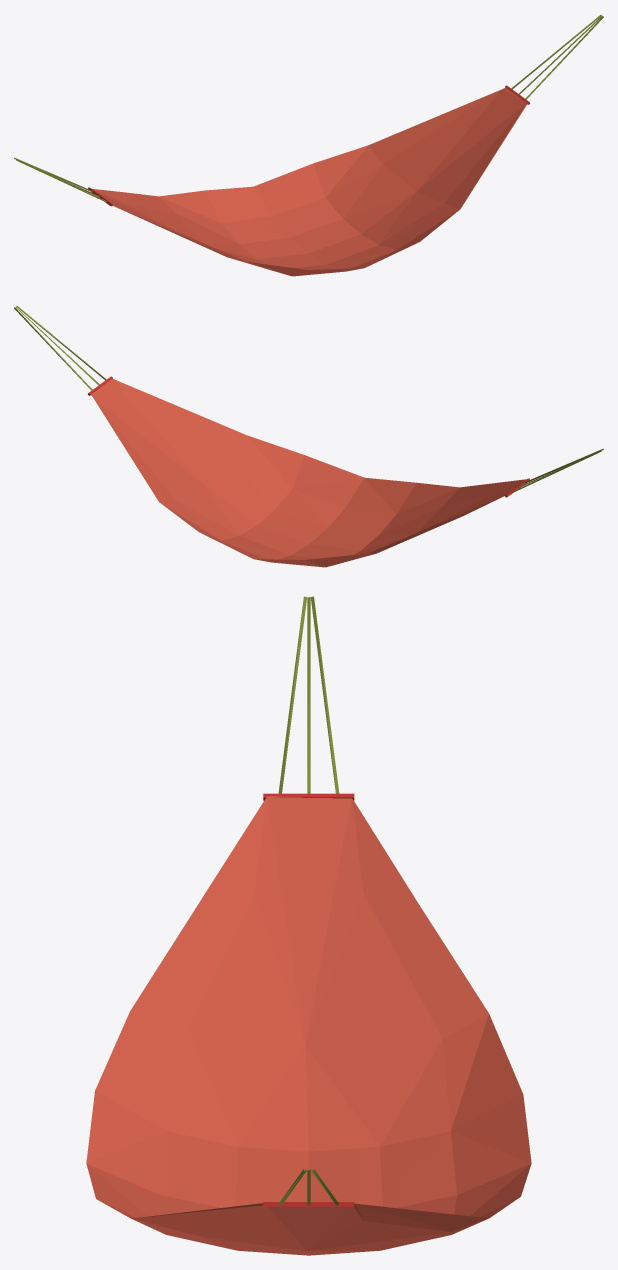
The model's file is Hammock_01.fbx.
3 views of the same model, one above another, from view 1: azimuth 30°, elevation 25°; view 2: azimuth 150°, elevation 25°; view 3: azimuth 270°, elevation 25° (orthographic). The views are drawn at different scales.
Visible parts, largest first — view 1: Hammock_01; view 2: Hammock_01; view 3: Hammock_01.
Boxes of the visible parts, x1,y1,x2,y2 form: Hammock_01: (14,15,603,276); Hammock_01: (14,306,603,567); Hammock_01: (86,596,531,1255).
Bounding box in the file's own units: 282 × 76.98 × 92.67.
